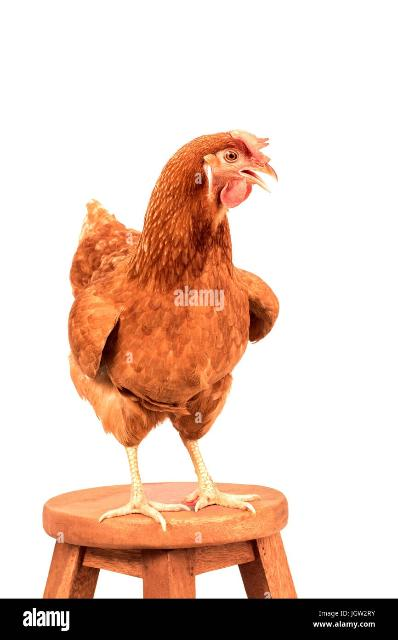Chicken: (64, 126, 287, 525)
